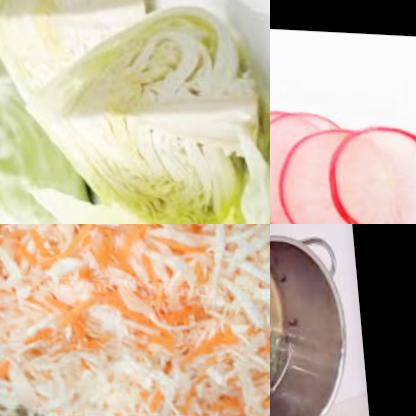cabbage: (7, 0, 270, 224), (0, 0, 162, 112), (0, 35, 94, 224), (0, 324, 176, 416), (0, 224, 93, 333), (200, 224, 270, 325), (224, 329, 270, 416)
carrot: (95, 285, 153, 329), (20, 333, 118, 358), (184, 323, 243, 361), (91, 228, 136, 272), (155, 300, 211, 335), (45, 298, 89, 332), (21, 230, 56, 272), (202, 383, 241, 416), (136, 387, 167, 416), (173, 346, 199, 372), (179, 407, 230, 416), (0, 358, 9, 395)
rediska: (270, 85, 416, 224)
